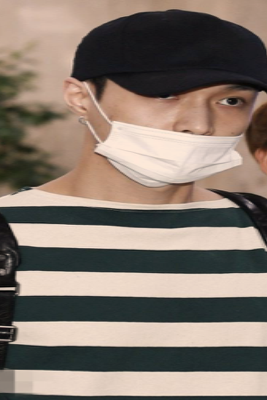mask_weared_incorrect: (88, 86, 255, 184)
